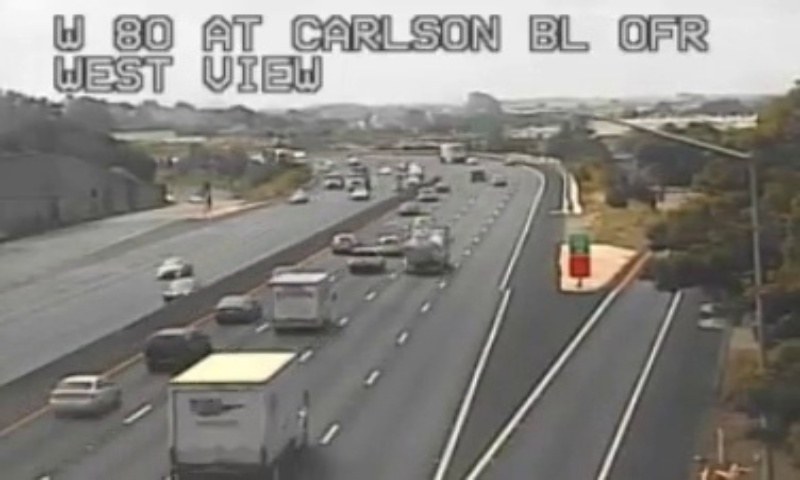car: (144, 328, 212, 371), (49, 376, 119, 412), (214, 294, 259, 323), (347, 246, 383, 273), (374, 234, 404, 256), (329, 233, 357, 253)
small-truck: (168, 350, 308, 480), (270, 270, 334, 328)
tank-truck: (406, 227, 446, 272)
